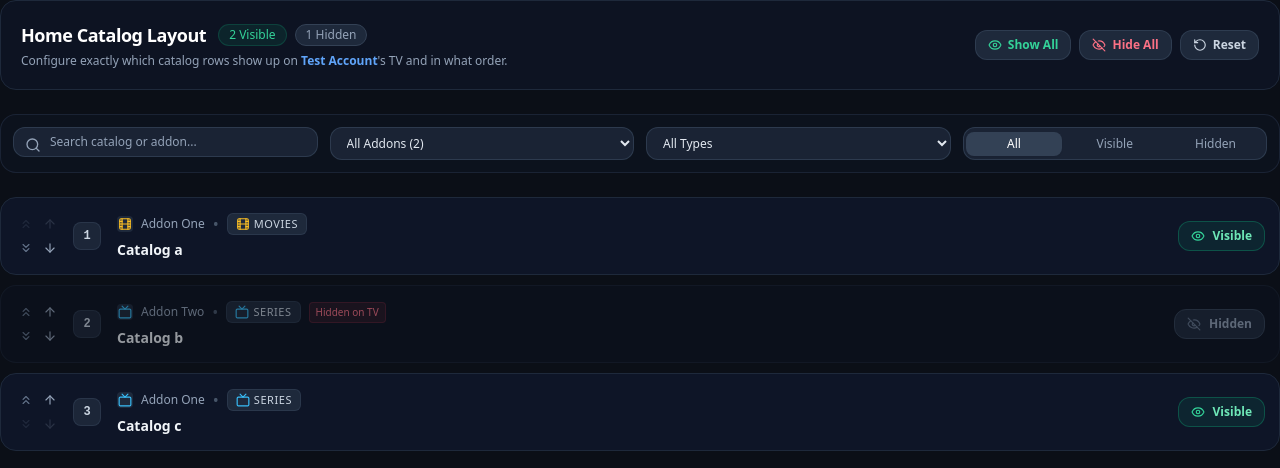
Test: CatalogManager › addon filter narrows the list to one addon
The image size is (1280, 468).
The addon filter is the first select element.
Step 1. Select "Addon One" in the 1st dropdown → (482, 144), box [330, 127, 634, 160]
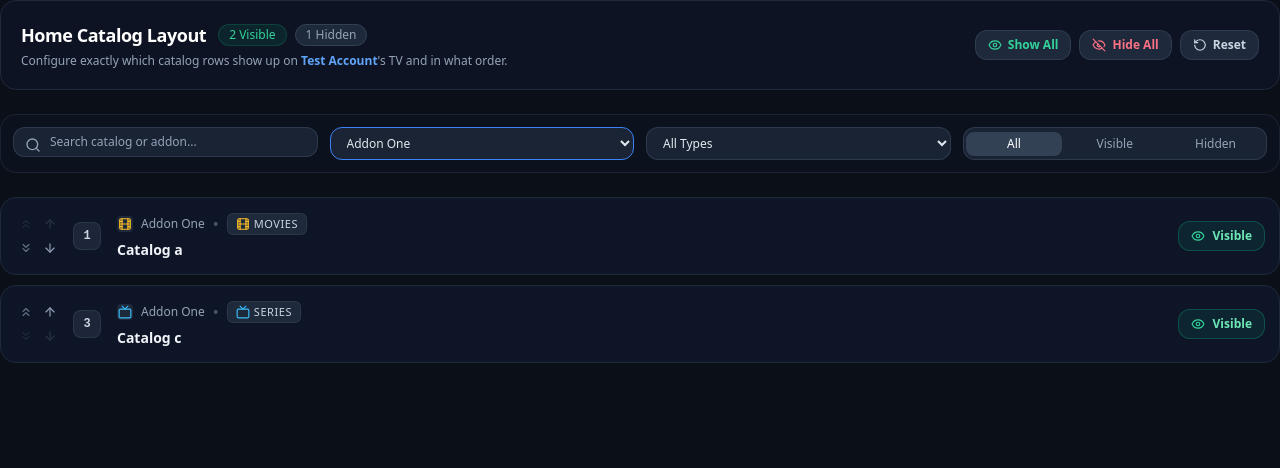
Check: the heading "Catalog a" is shown, box [117, 240, 183, 260]
Check: the heading "Catalog b" is gone
